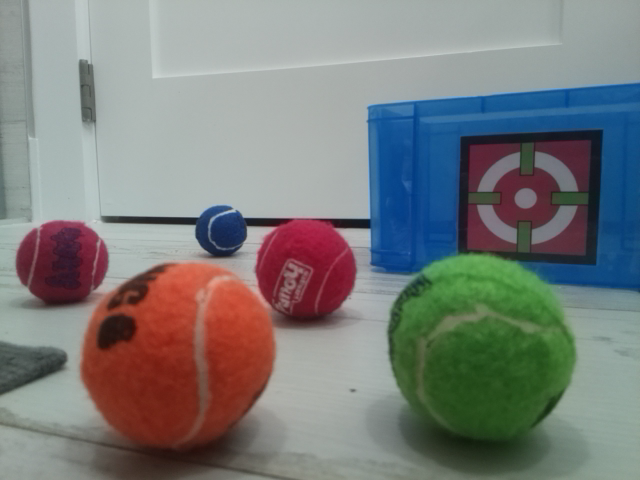blue-ball: (195, 204, 248, 258)
drop-bin: (458, 130, 603, 266)
green-ball: (386, 252, 577, 445)
orange-ball: (80, 260, 277, 453)
red-ball: (254, 217, 358, 322), (15, 219, 110, 306)
